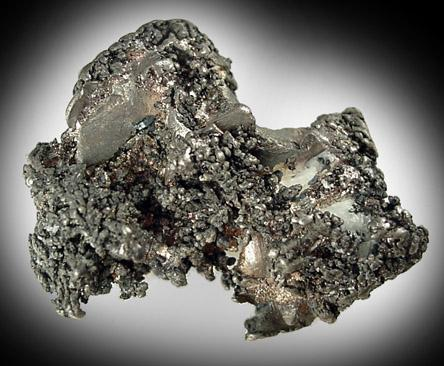silver: (82, 51, 162, 119), (286, 155, 361, 214), (216, 168, 271, 208), (109, 147, 153, 184), (238, 278, 284, 292)
